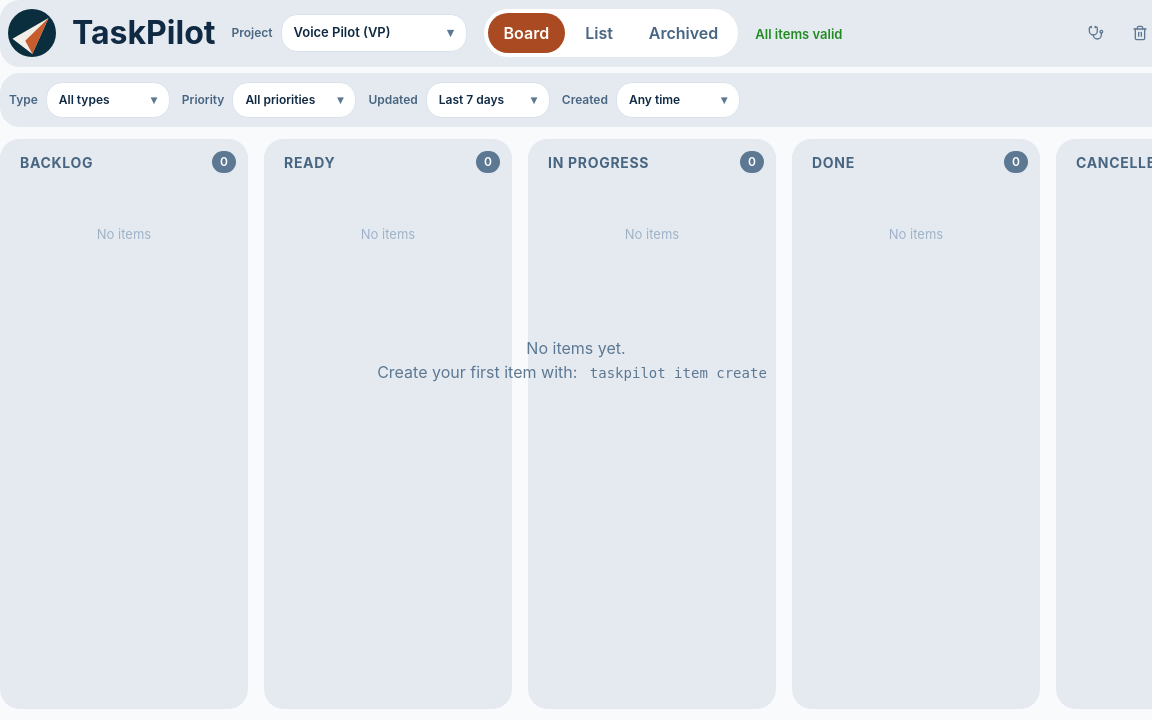
Test case: App › header project actions › after unregistering selects the first remaining project
Click the button named "Unregister project" at (1139, 33), box [1126,19,1151,47]
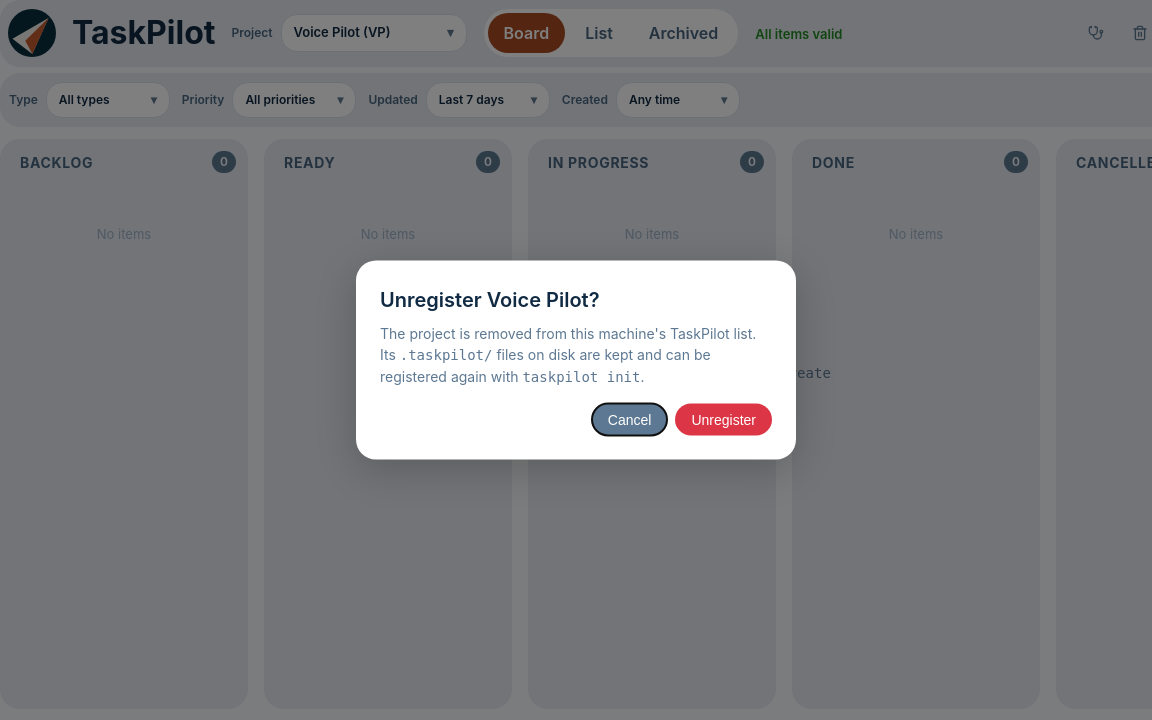
Click the button "Unregister" at (724, 420), box [675,404,772,436]
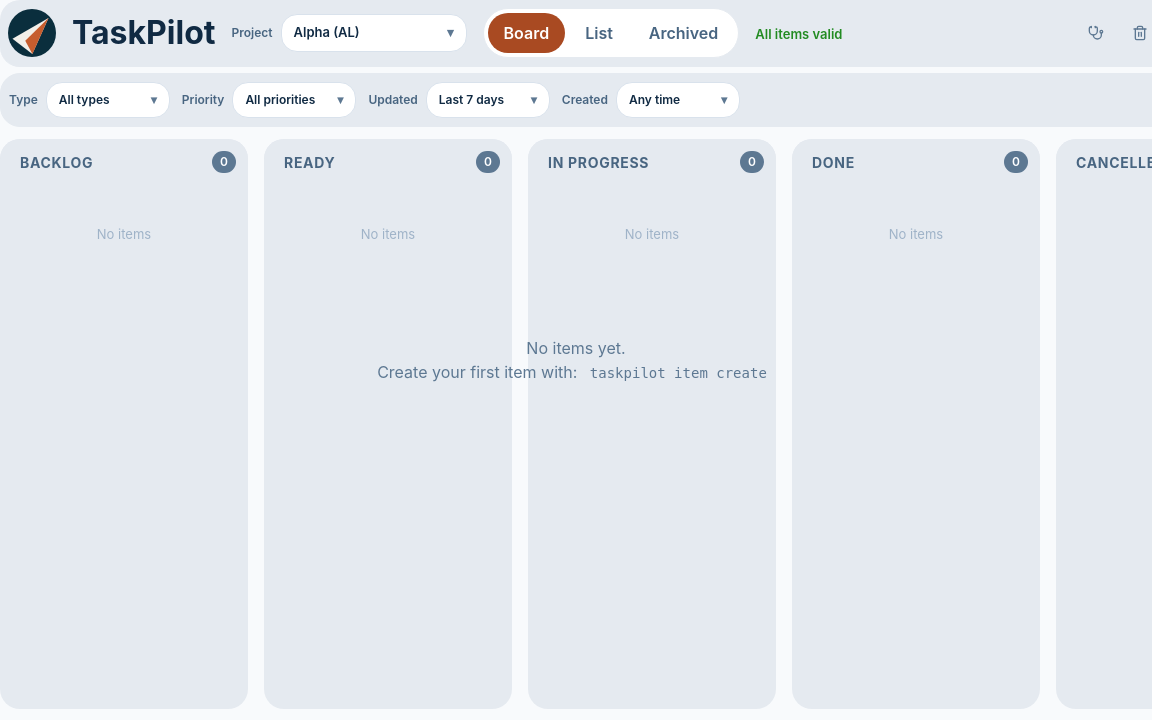
Now the button with aria-label "Project: Alpha (AL)" is shown, box [280,14,466,52]
